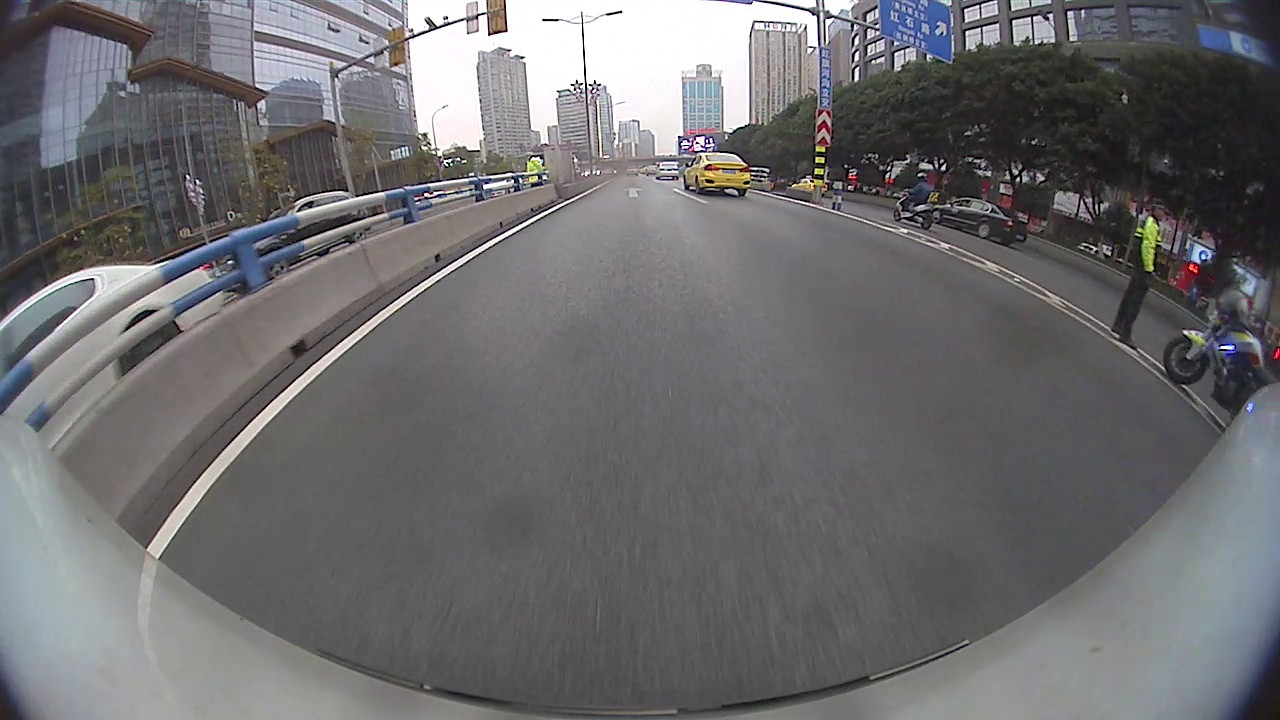car: (1, 259, 232, 460), (223, 189, 373, 300), (929, 195, 1029, 248), (681, 143, 753, 198), (653, 160, 683, 182)
front: (259, 248, 291, 278), (932, 211, 943, 225)
person: (1138, 195, 1169, 354)
rear: (116, 307, 183, 376), (345, 220, 369, 245), (977, 221, 990, 237)
rider: (1161, 286, 1271, 418), (891, 170, 942, 233)
